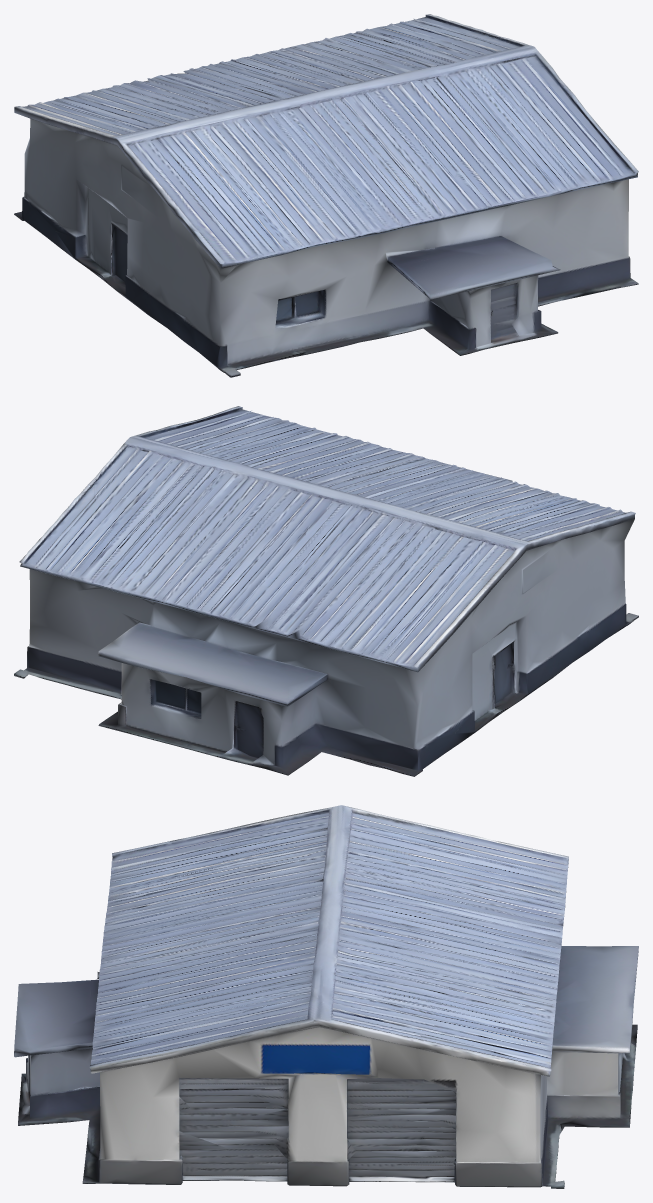
File: workshop_tripo.glb
3 views of the same model, one above another, from view 1: azimuth 30°, elevation 25°; view 2: azimuth 150°, elevation 25°; view 3: azimuth 270°, elevation 25° (orthographic). The views are drawn at different scales.
Visible parts, largest first — view 1: tripo_node_a514cf50-28f8-4cc4-963d-711e3c8b2f65; view 2: tripo_node_a514cf50-28f8-4cc4-963d-711e3c8b2f65; view 3: tripo_node_a514cf50-28f8-4cc4-963d-711e3c8b2f65.
Boxes of the visible parts, left/top/right/bottom form: tripo_node_a514cf50-28f8-4cc4-963d-711e3c8b2f65: left=14, top=14, right=638, bottom=377; tripo_node_a514cf50-28f8-4cc4-963d-711e3c8b2f65: left=14, top=406, right=638, bottom=776; tripo_node_a514cf50-28f8-4cc4-963d-711e3c8b2f65: left=14, top=805, right=638, bottom=1188.
Bounding box in the file's own units: 0.8064 × 0.2927 × 0.9794.
1 material, 1 textured.
